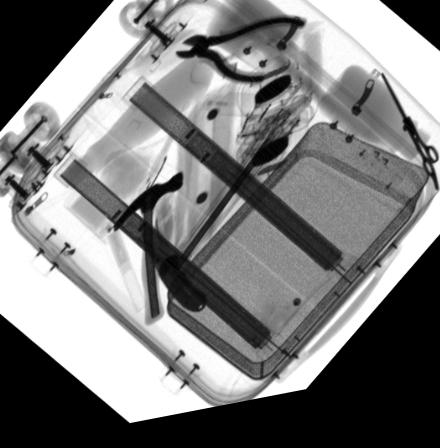Hammer: (110, 177, 183, 330)
Knife: (138, 223, 208, 322)
Pliers: (174, 27, 309, 96)
Scissors: (380, 87, 440, 209)
